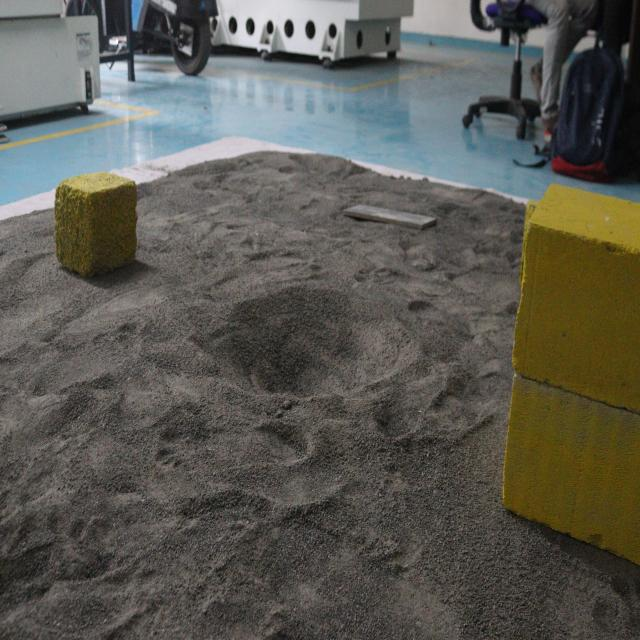box: (501, 171, 640, 561), (58, 165, 146, 274)
crater: (189, 274, 425, 413)
